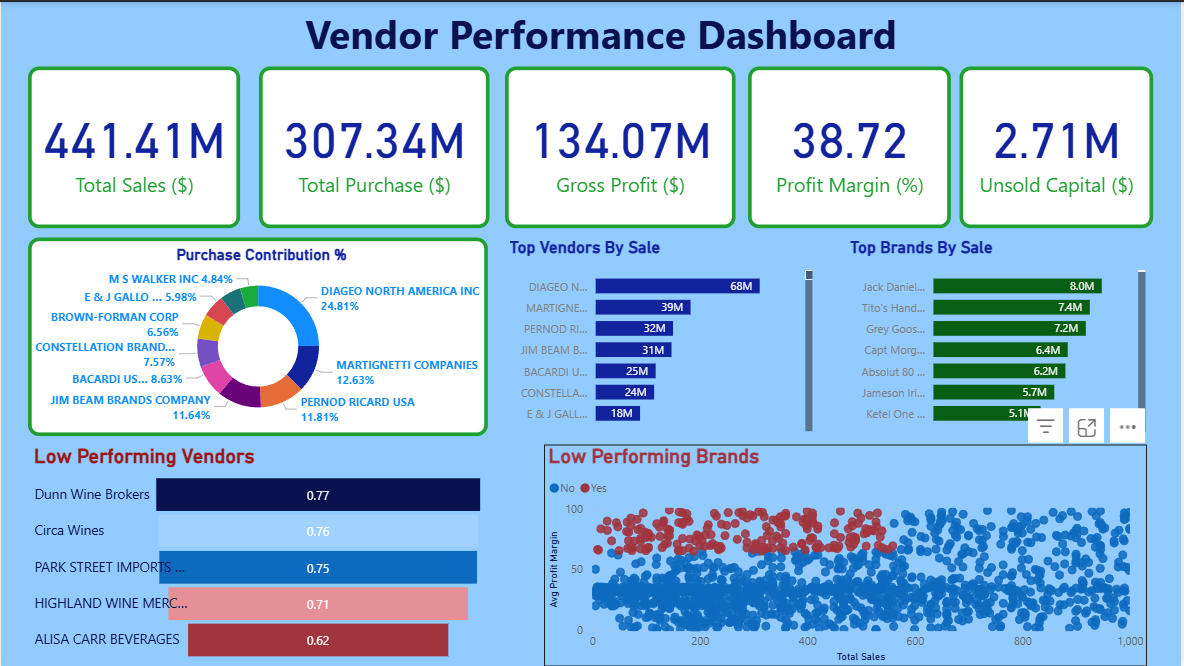

The dashboard page shown, as its layout file describes it:
{"tool":"powerbi","page":{"name":"Page 1","canvas":[1280,720],"ordinal":0},"visuals":[{"type":"card","fields":{"Values":["Sum(vendor_sales_summary.TotalSalesDollars)"]},"box":[30,70,230,175],"z":0},{"type":"card","fields":{"Values":["Sum(vendor_sales_summary.TotalPurchaseDollars)"]},"box":[280,70,250,175],"z":1},{"type":"card","fields":{"Values":["Sum(vendor_sales_summary.GrossProfit)"]},"box":[546.7,70,250,175],"z":2},{"type":"card","fields":{"Values":["Avg(vendor_sales_summary.profitMargin)"]},"box":[810,70,220,175],"z":3},{"type":"card","fields":{"Values":["Sum(vendor_sales_summary.UnsoldCapital)"]},"box":[1040,70,210,175],"z":4},{"type":"donutChart","title":"Purchase Contribution %","fields":{"Category":["PurchaseContribution.VendorName"],"Y":["Sum(PurchaseContribution.TotalPurchaseDollars)"]},"box":[30,255,498.3,215],"z":5},{"type":"barChart","title":"Top Vendors By Sale","fields":{"Category":["vendor_sales_summary.VendorName"],"Y":["Sum(vendor_sales_summary.TotalSalesDollars)"]},"box":[546.7,255,338.3,215],"z":6},{"type":"barChart","title":"Top Brands By Sale","fields":{"Category":["vendor_sales_summary.Description"],"Y":["Sum(vendor_sales_summary.TotalSalesDollars)"]},"box":[915,255,330,215],"z":7},{"type":"funnel","title":"Low Performing Vendors","fields":{"Category":["LowTurnoverVendors.VendorName"],"Y":["Sum(LowTurnoverVendors.AvgStockTurnover)"]},"box":[31.7,480,498.3,238.3],"z":8},{"type":"scatterChart","title":"Low Performing Brands","fields":{"Category":["BrandPerformance.Description"],"X":["Sum(BrandPerformance.TotalSales)"],"Y":["Avg(BrandPerformance.AvgProfitMargin)"],"Series":["BrandPerformance.TargetBrand"]},"box":[588.3,480,655,240],"z":9},{"type":"textbox","box":[100,0,1103.3,70],"z":10}]}

Visuals, with their boxes in screenshot pixels (x1, y1, x2, y2), scaled from the page's 1280x720 canvas onto the 1184x666 screenshot:
card - Sum(vendor_sales_summary.TotalSalesDollars): [x1=28, y1=65, x2=240, y2=227]
card - Sum(vendor_sales_summary.TotalPurchaseDollars): [x1=259, y1=65, x2=490, y2=227]
card - Sum(vendor_sales_summary.GrossProfit): [x1=506, y1=65, x2=737, y2=227]
card - Avg(vendor_sales_summary.profitMargin): [x1=749, y1=65, x2=953, y2=227]
card - Sum(vendor_sales_summary.UnsoldCapital): [x1=962, y1=65, x2=1156, y2=227]
"Purchase Contribution %" donutChart: [x1=28, y1=236, x2=489, y2=435]
"Top Vendors By Sale" barChart: [x1=506, y1=236, x2=819, y2=435]
"Top Brands By Sale" barChart: [x1=846, y1=236, x2=1152, y2=435]
"Low Performing Vendors" funnel: [x1=29, y1=444, x2=490, y2=664]
"Low Performing Brands" scatterChart: [x1=544, y1=444, x2=1150, y2=665]
textbox: [x1=92, y1=0, x2=1113, y2=65]
